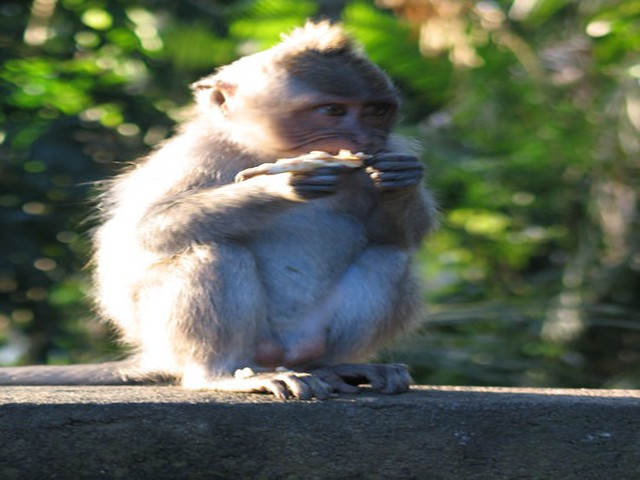Monkey: (88, 17, 453, 398)
